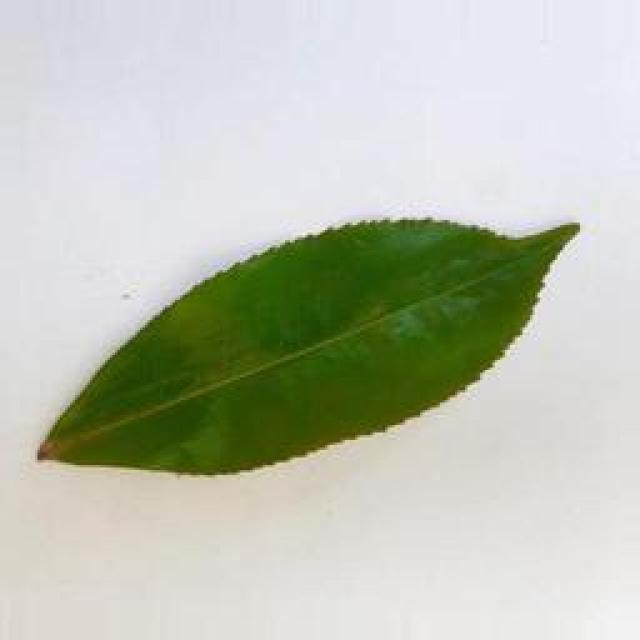Healthy: (33, 214, 587, 484)
